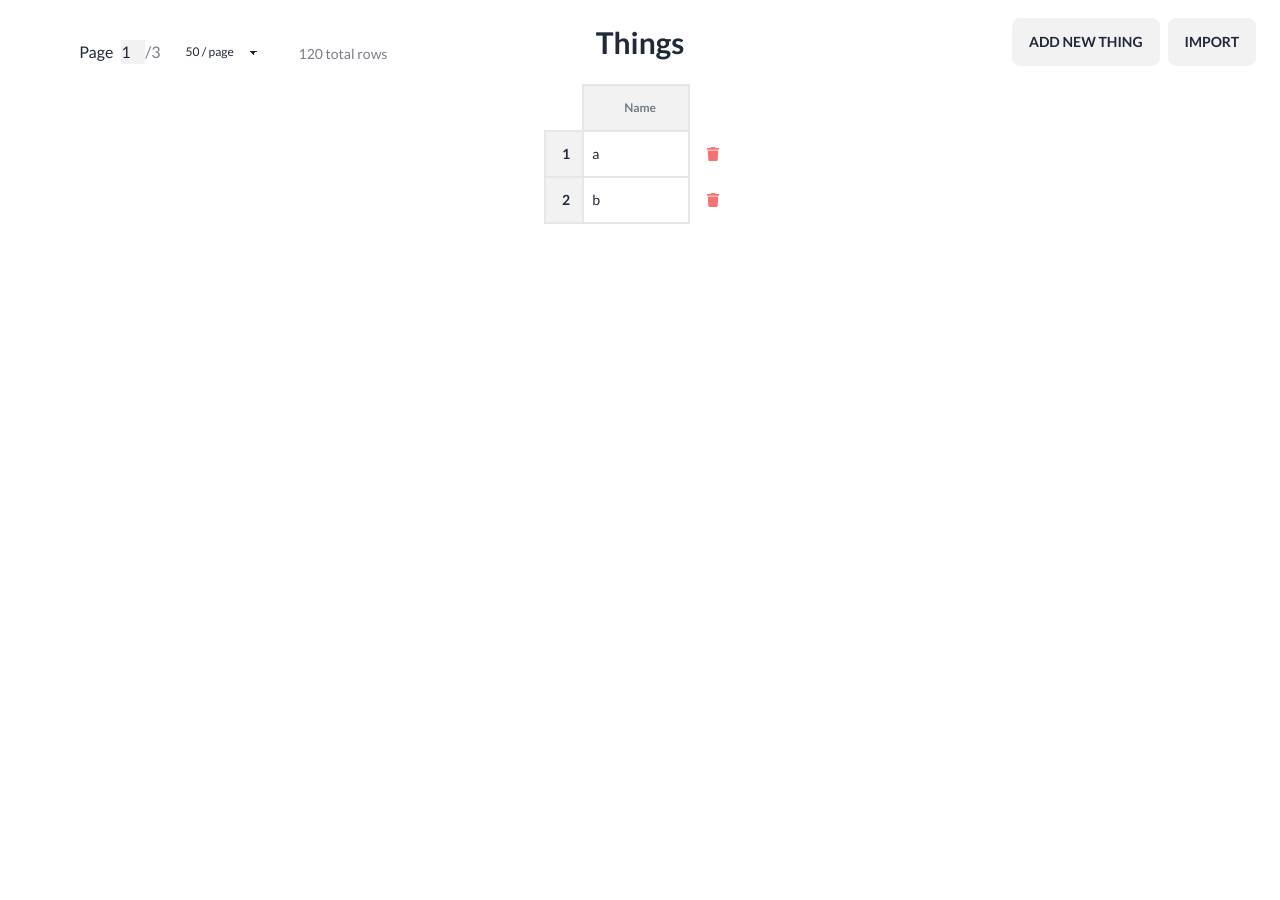
Test case: cascading delete › says "1 strain allele" for one and "2 strain alleles" for two
Click the 3rd cell at (712, 154), box [689,131,736,177]
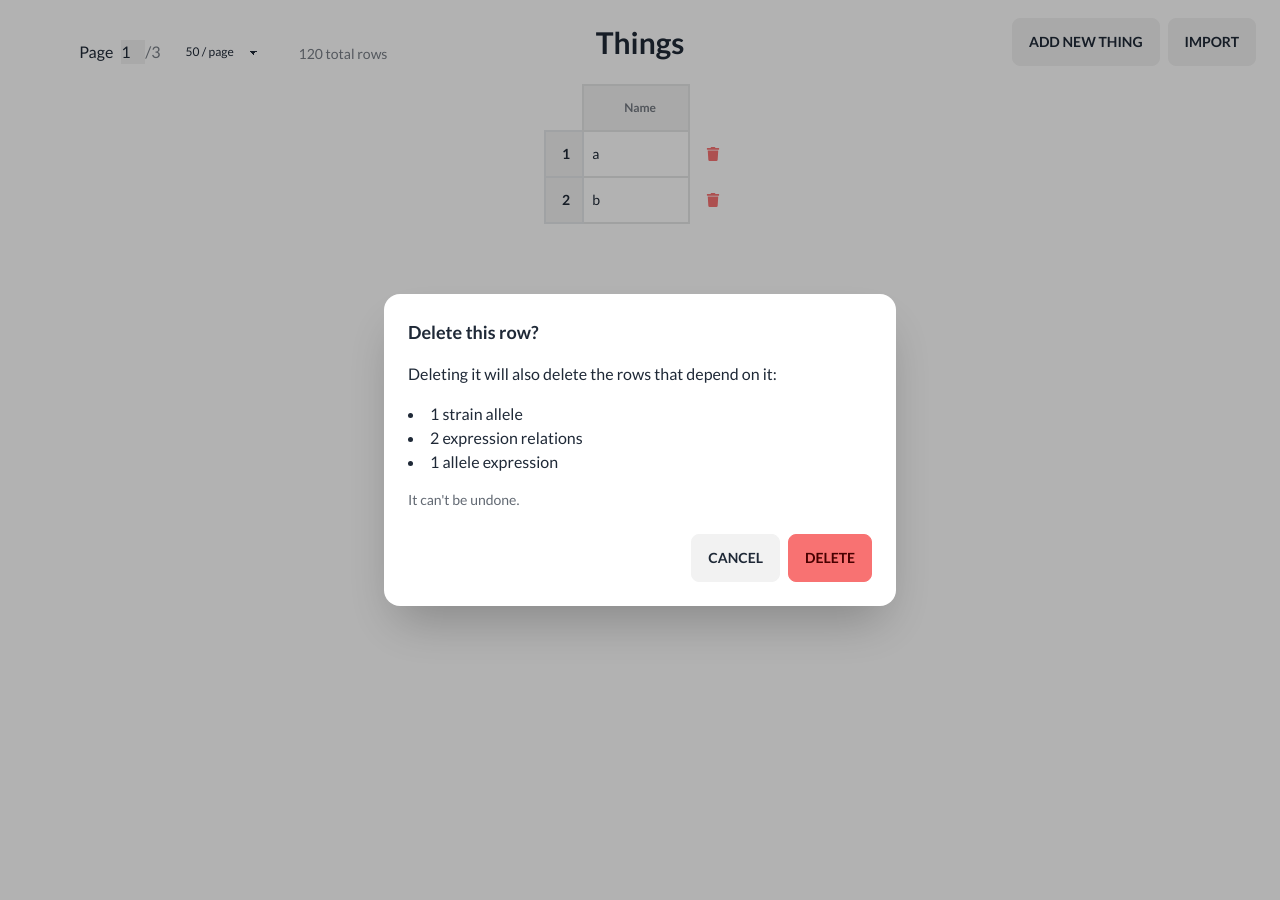
Result: the list item "1 strain allele" is shown at [430,404,523,423]
Result: the list item "2 expression relations" is shown at [430,428,583,447]
Result: the list item "1 allele expression" is shown at [430,452,558,471]
